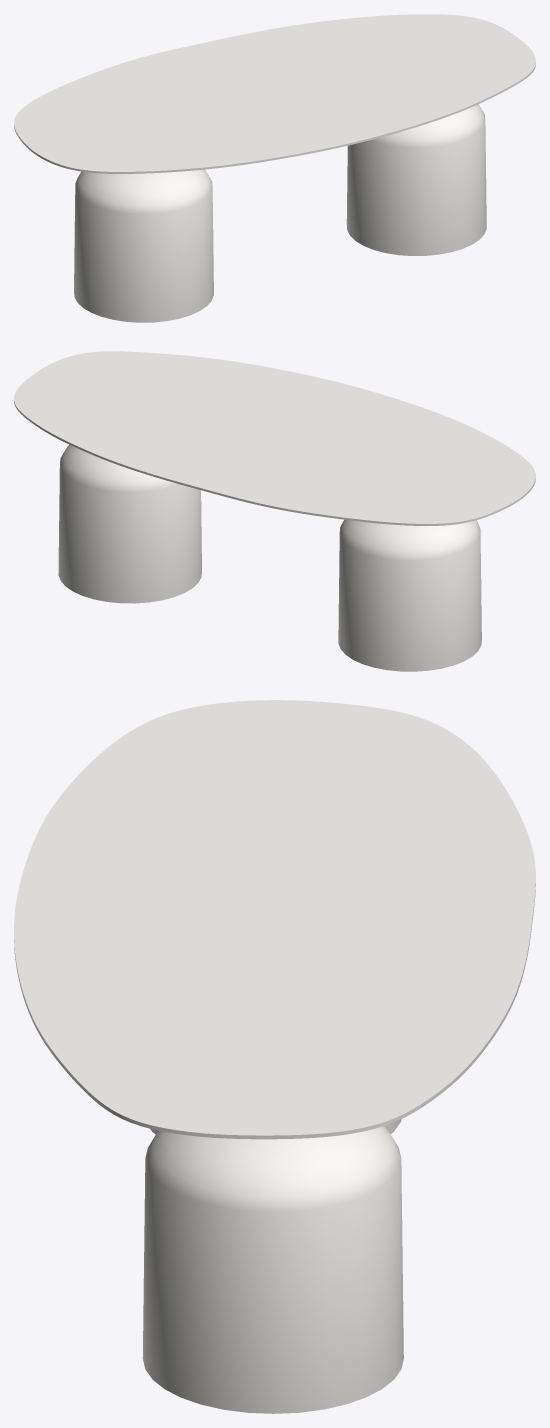
Rendered from purewhite_danish_facet_tornado.glb.
3 views of the same model, one above another, from view 1: azimuth 30°, elevation 25°; view 2: azimuth 150°, elevation 25°; view 3: azimuth 270°, elevation 25° (orthographic). The views are drawn at different scales.
Parts seen in each view (by area): view 1: facet_danish, tornado; view 2: facet_danish, tornado; view 3: facet_danish, tornado.
Part boxes in pixels (bbox=[...]): facet_danish: bbox=[14, 14, 535, 173]; tornado: bbox=[74, 104, 486, 322]; facet_danish: bbox=[14, 351, 535, 525]; tornado: bbox=[58, 444, 481, 671]; facet_danish: bbox=[14, 700, 535, 1139]; tornado: bbox=[142, 1119, 403, 1413].
Bounding box in the file's own units: 7.5 × 2.5 × 3.8.
1 material, 1 textured.
